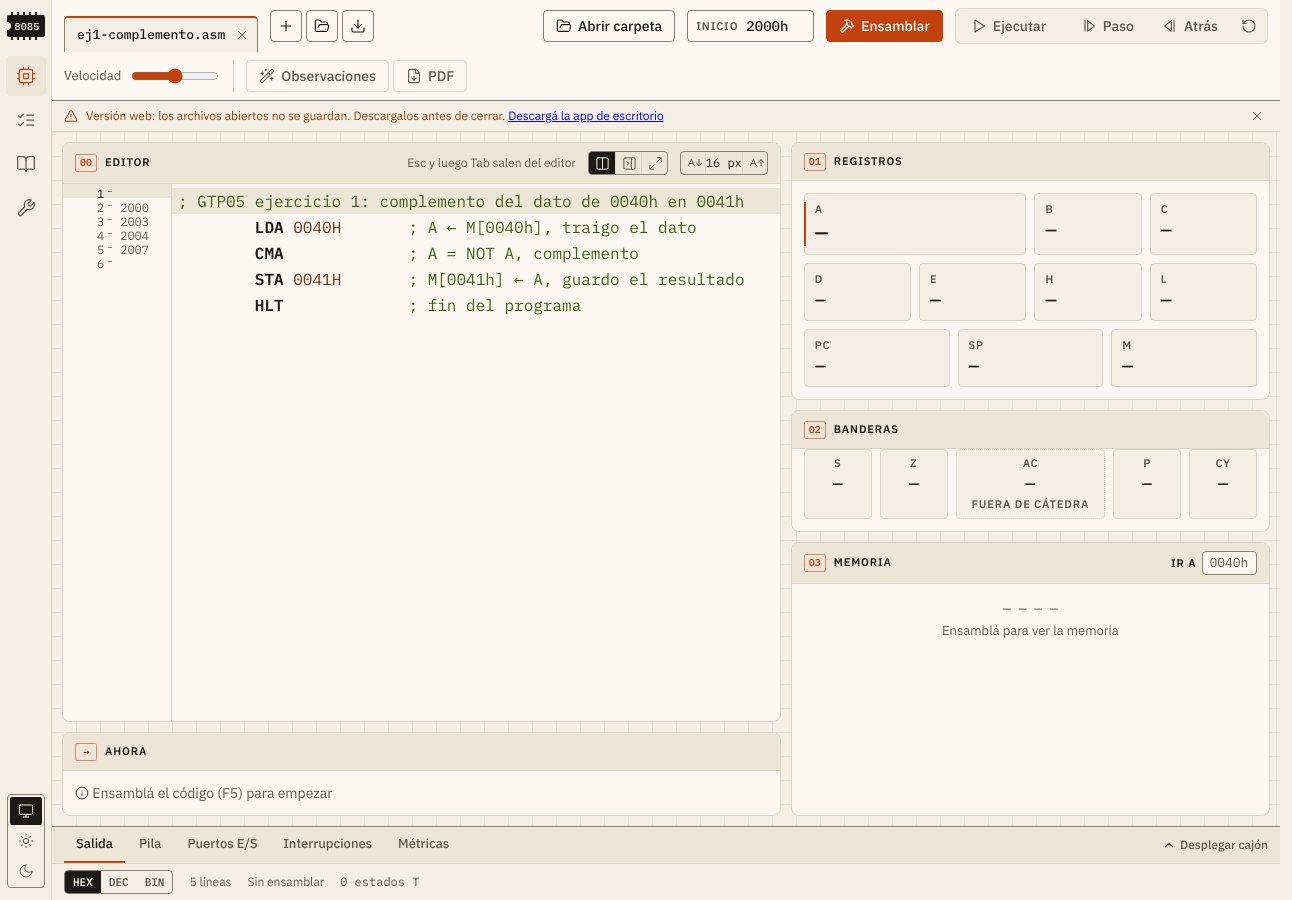
árbol de archivos › carpeta vacía: lo dice
The width and height of the screenshot is (1292, 900).
Click the button "Abrir carpeta". click: (609, 26)
box: [543,10,675,42]
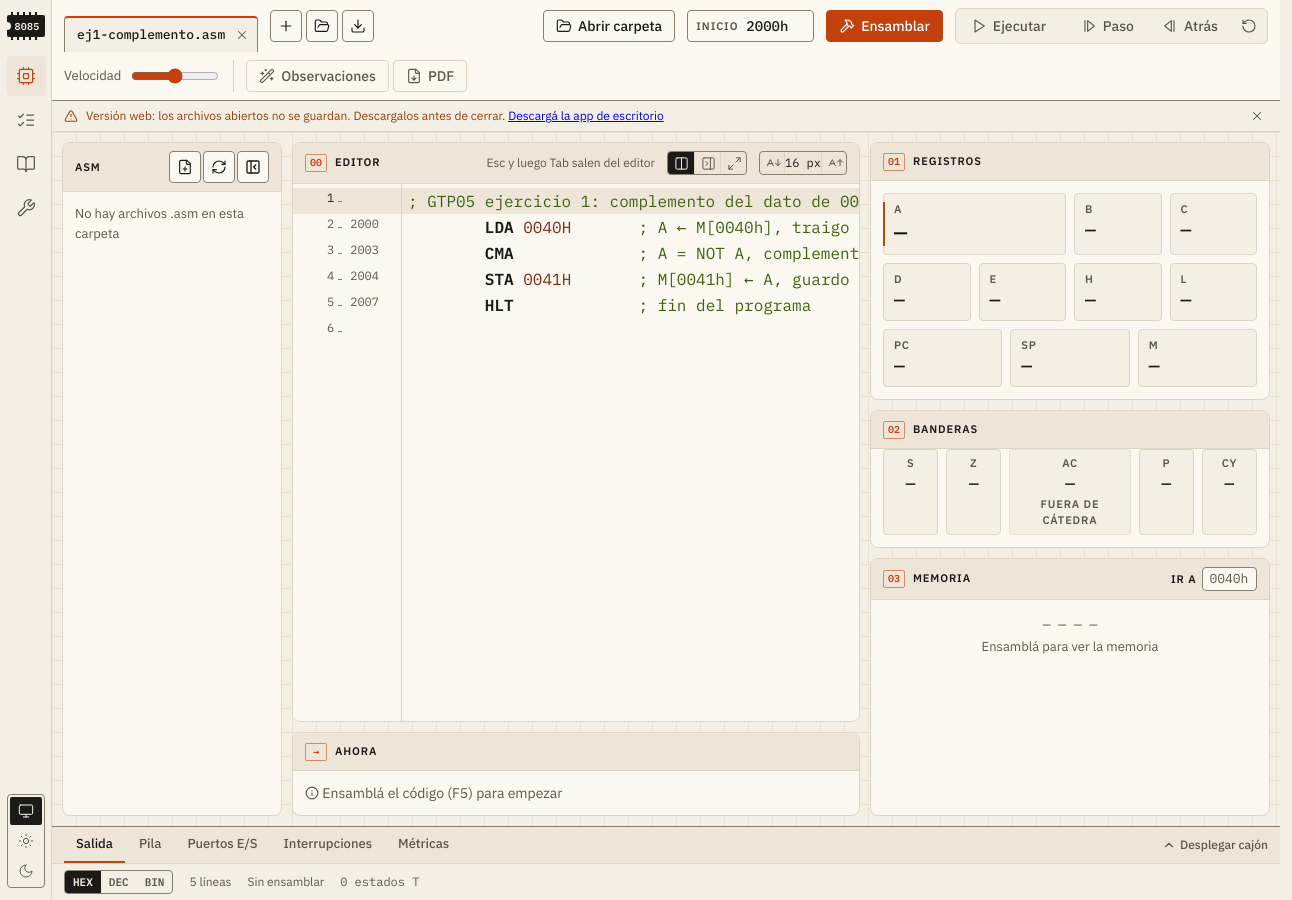
Now the text "No hay archivos .asm en esta carpeta" is shown, box [75,204,269,244]
